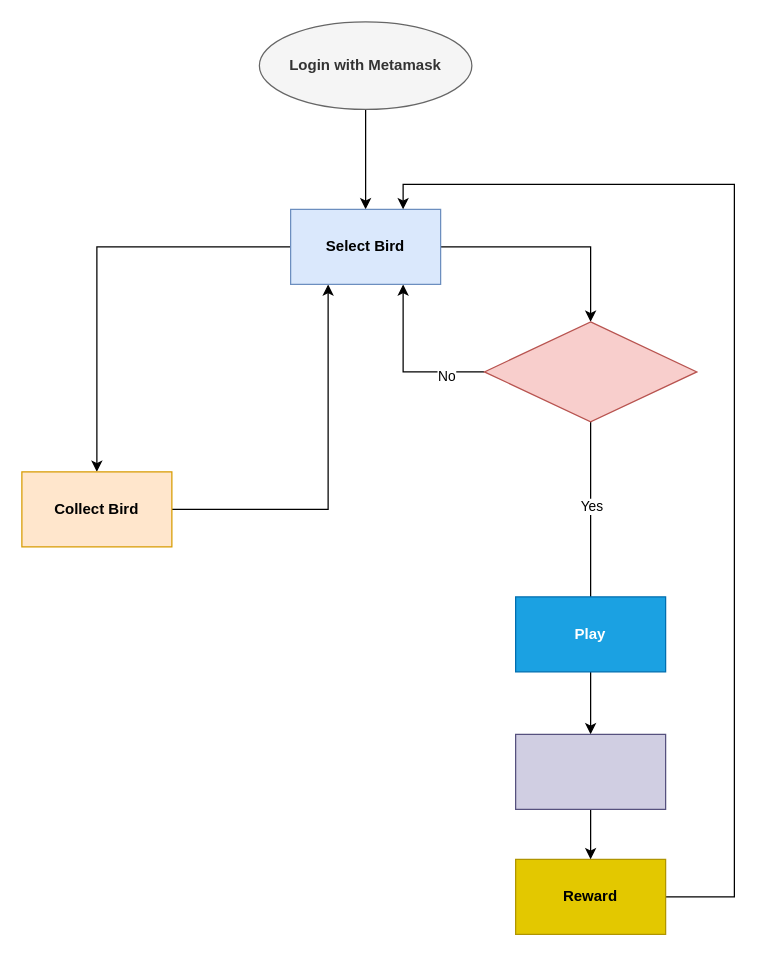
The diagram is 766 pixels wide and 956 high, and some of its shapes have lost their labels. Here are the shapes that lost their labels. From the top down, the centre of each, then its label:
At (590,371): "Bird have Stamina?".
At (590,771): "Stamina -= 1".
